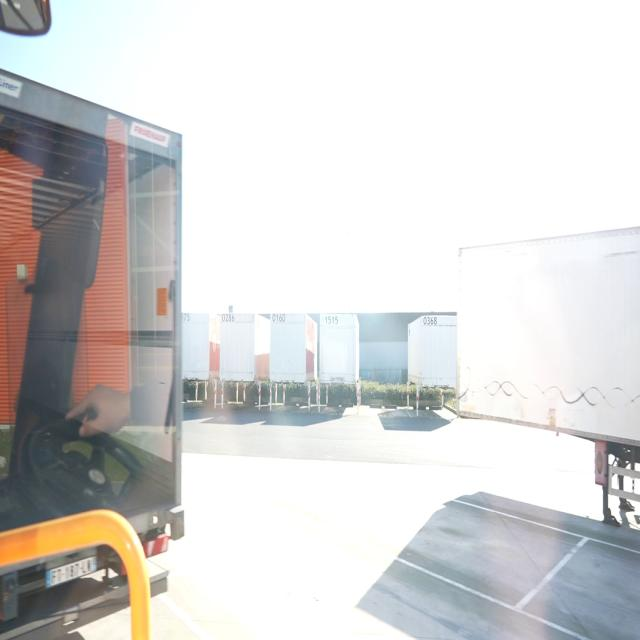Code: (269, 307, 287, 328), (218, 309, 238, 327), (323, 312, 340, 328), (421, 314, 439, 329)
